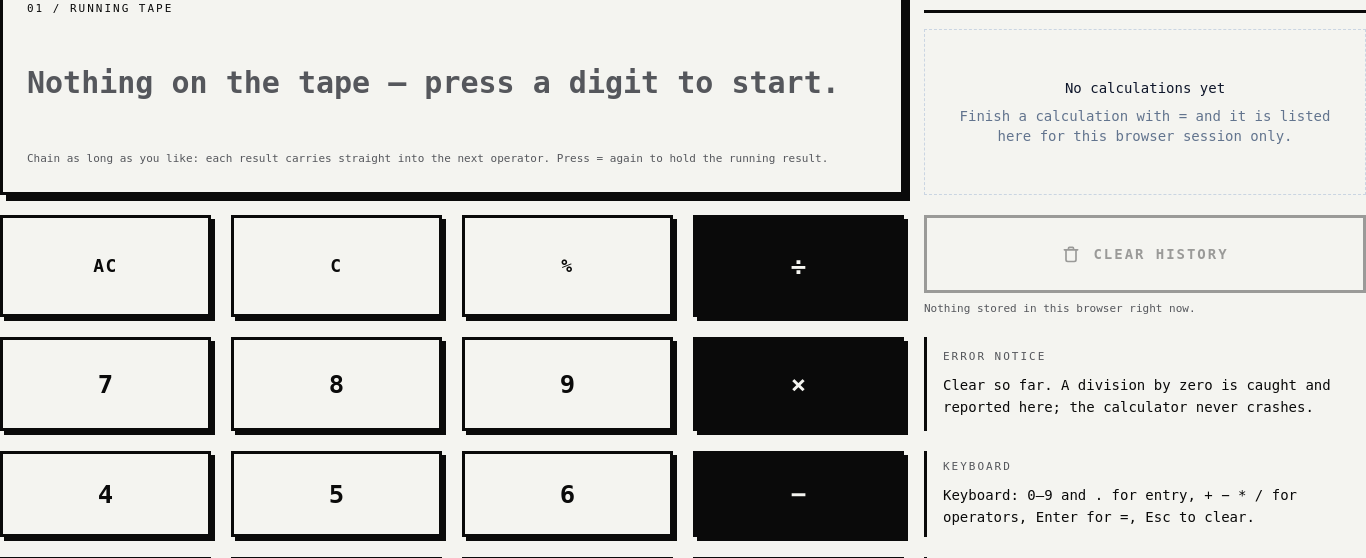
Test case: Calculator screen › [AC-013] AC resets the display back to 0
(page scrolled)
Step 1. Click the button "7" → click(106, 384), box x1=0 y1=337 x2=211 y2=431
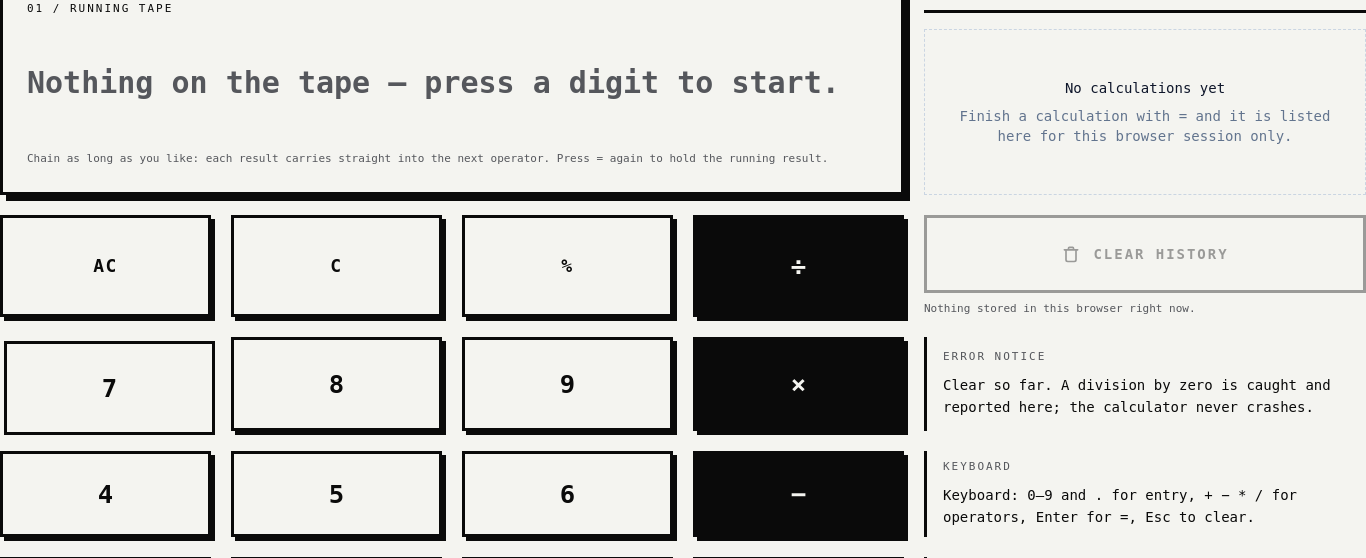
Step 2. Click the button "AC" → click(106, 266), box x1=0 y1=214 x2=211 y2=317
(page scrolled)
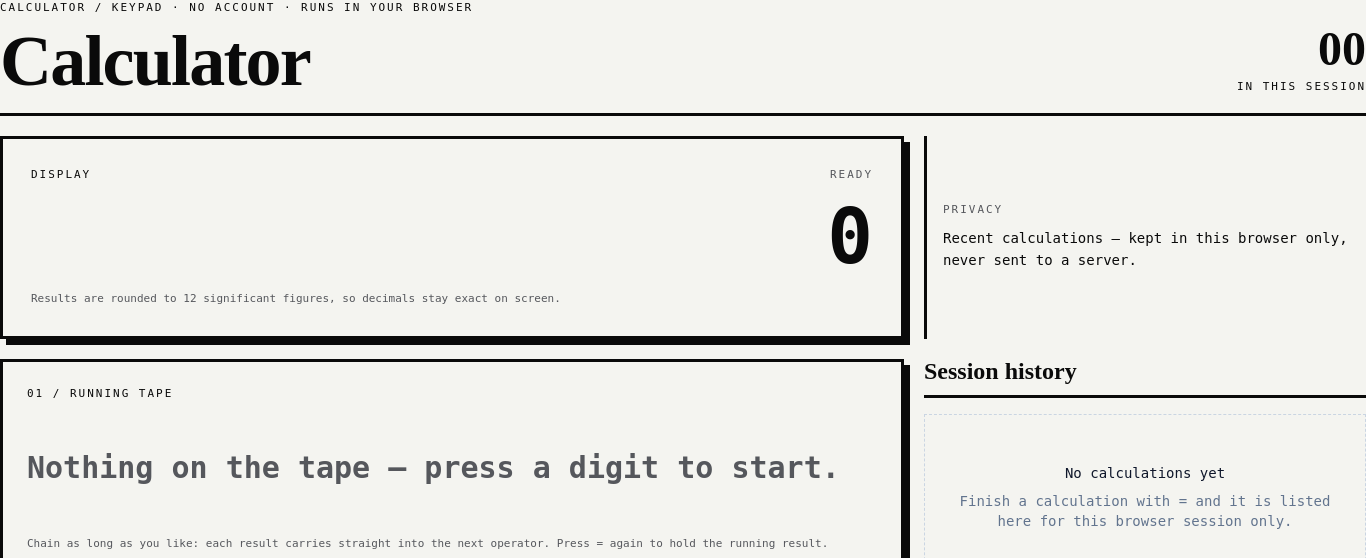
Expected: the text "0" is shown, x1=827 y1=192 x2=873 y2=281
